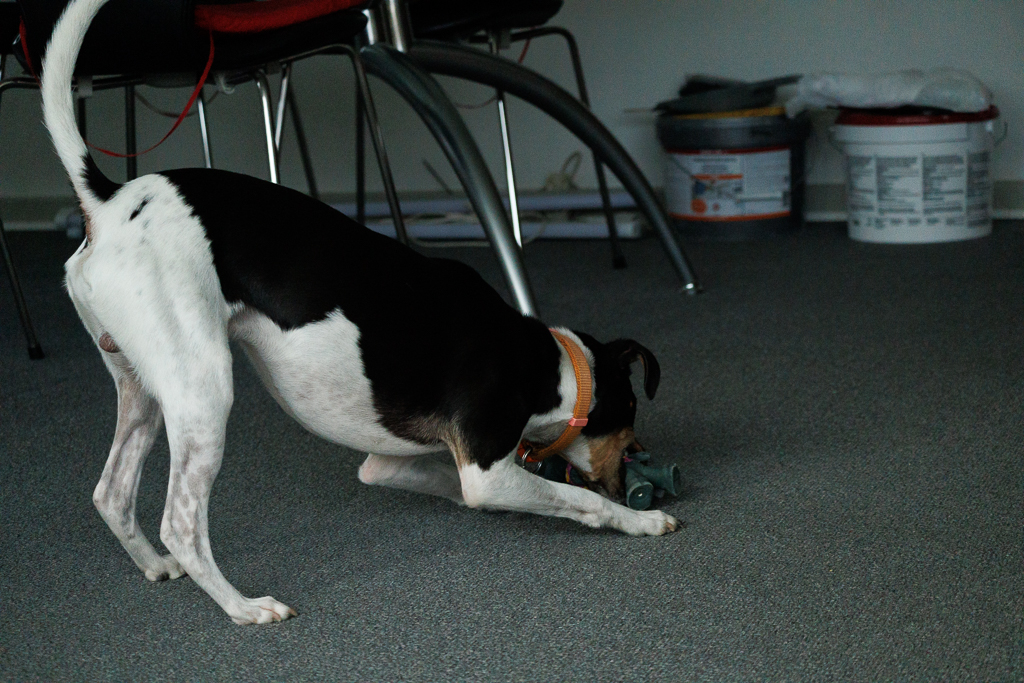Dog: (35, 0, 690, 637)
Humanoid: (550, 438, 693, 518)
